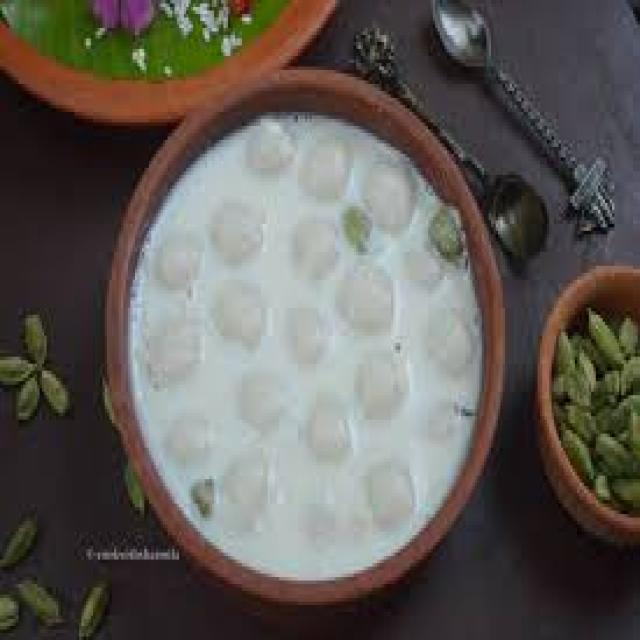paal kolukattai: (122, 98, 498, 582)
